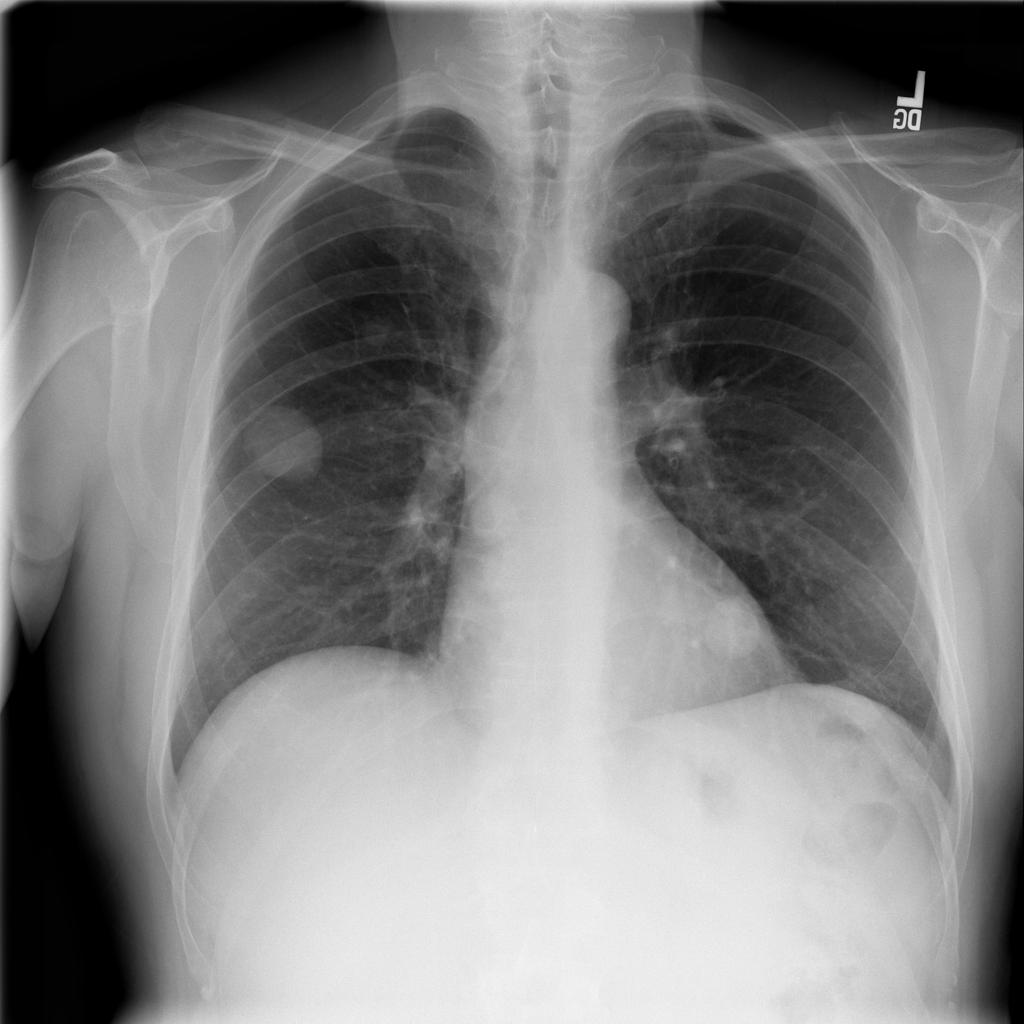nodule: (224, 388, 343, 498), (695, 585, 772, 670), (351, 306, 402, 357)
